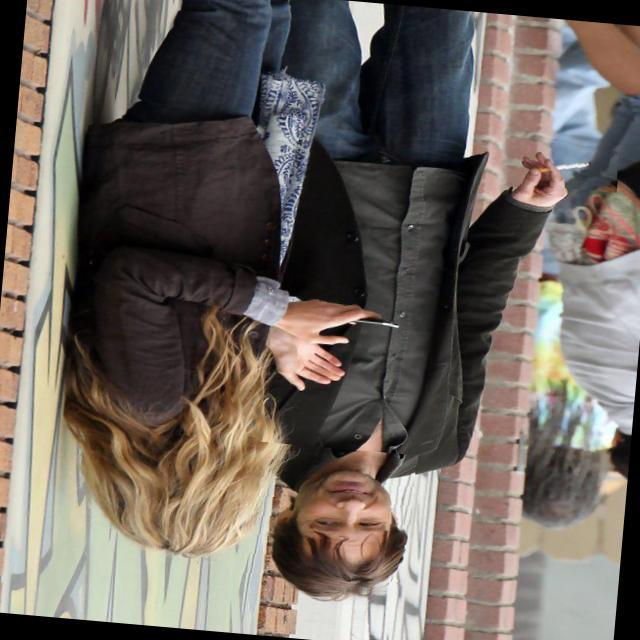cigarette: (508, 134, 620, 193)
